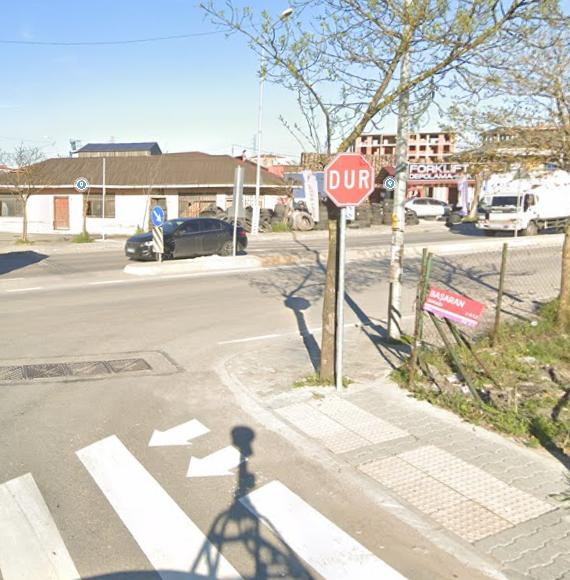stop: (319, 150, 377, 209)
